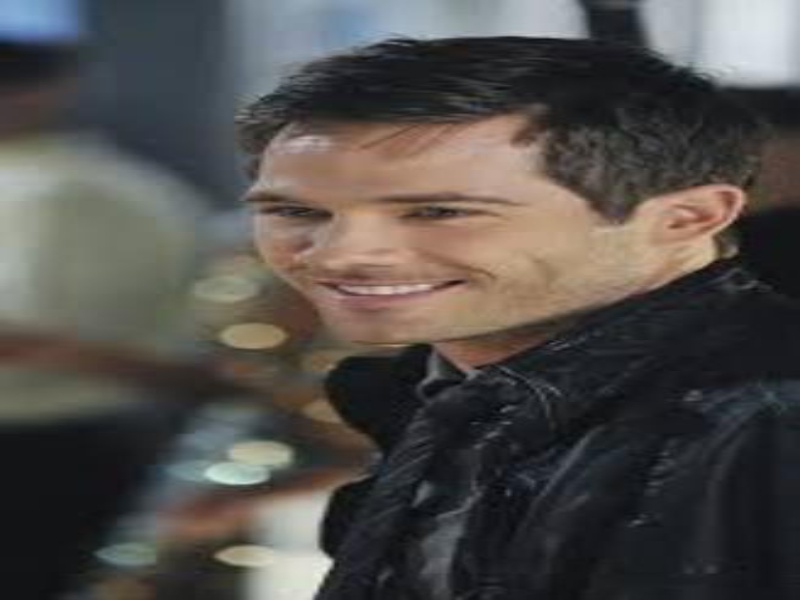TsisyArotava: (212, 47, 617, 382)
